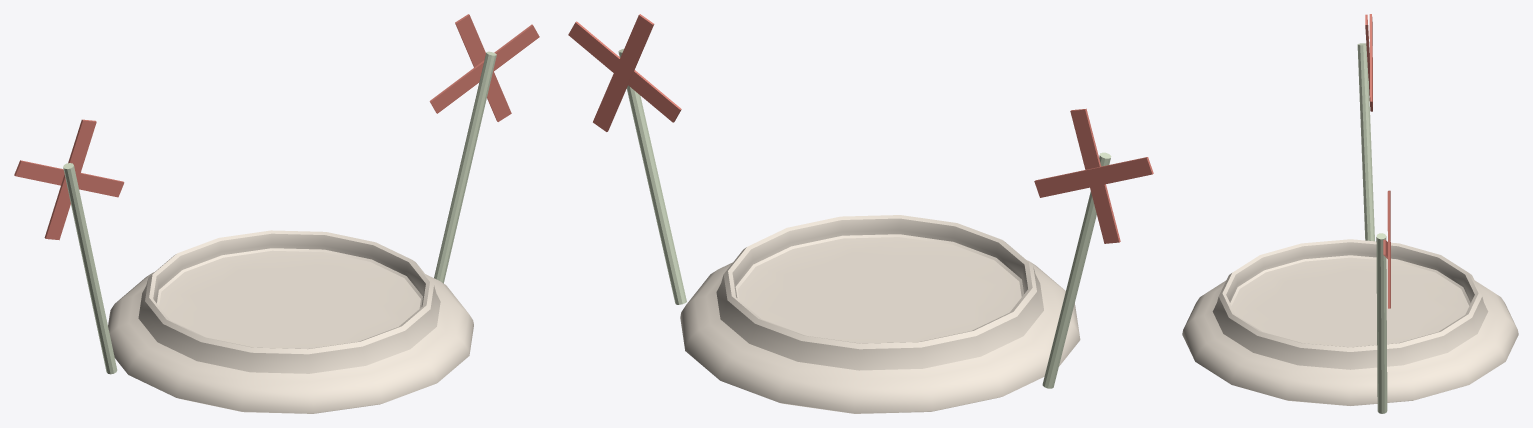
The model's file is trap_Platform001.fbx.
The picture shows the model from 3 angles, left to right: view 1: azimuth 30°, elevation 25°; view 2: azimuth 150°, elevation 25°; view 3: azimuth 270°, elevation 25°; orthographic projection. The views are drawn at different scales.
Parts seen in each view (by area): view 1: Danger; view 2: Danger; view 3: Danger.
Part boxes in pixels (left/top/right/bottom): Danger: left=14, top=14, right=539, bottom=413; Danger: left=568, top=14, right=1153, bottom=413; Danger: left=1182, top=14, right=1518, bottom=413.
Bounding box in the file's own units: 374 × 176 × 227.
